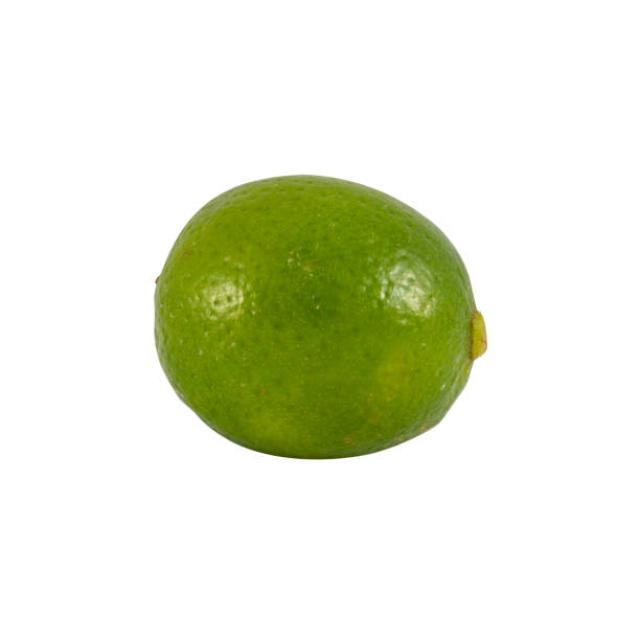Unripe: (151, 174, 489, 460)
